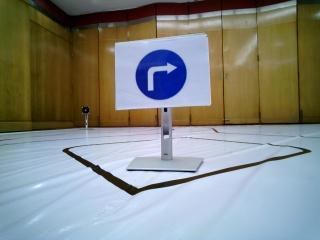right: (122, 49, 190, 106)
